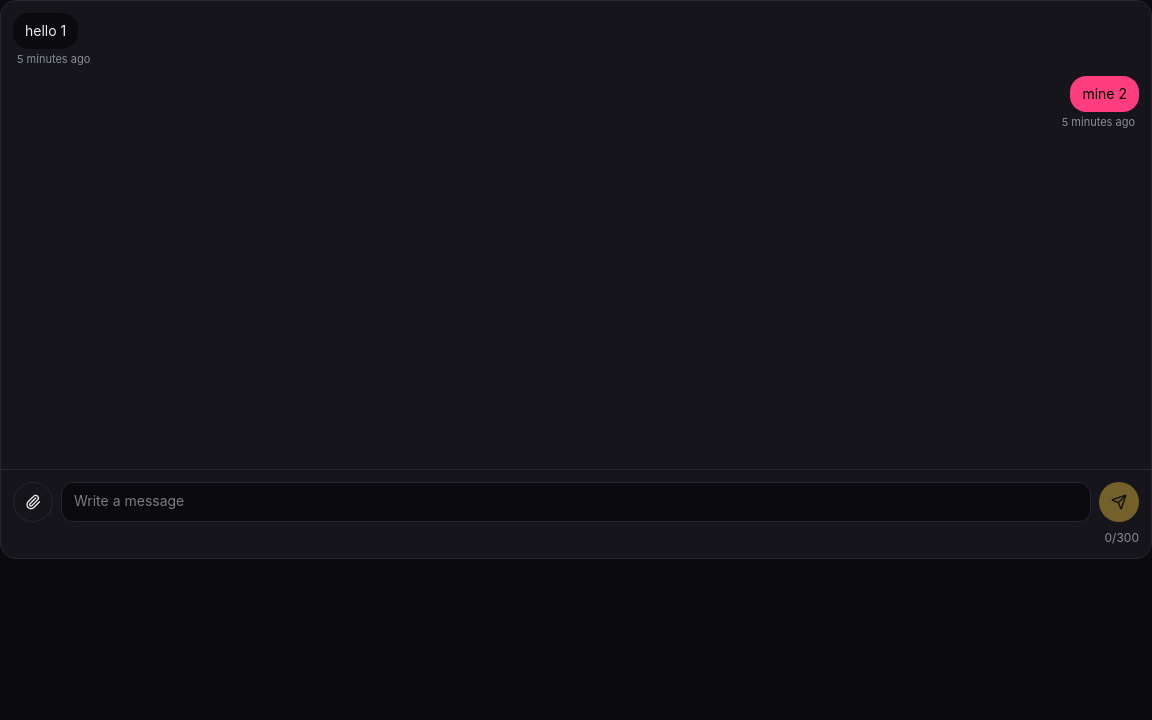
Scenario: direct messages › shows the message at once as pending, and the realtime echo renders it once
Type "ping" into the text box labelled "Write a message" at (576, 502), box x1=61 y1=482 x2=1091 y2=522
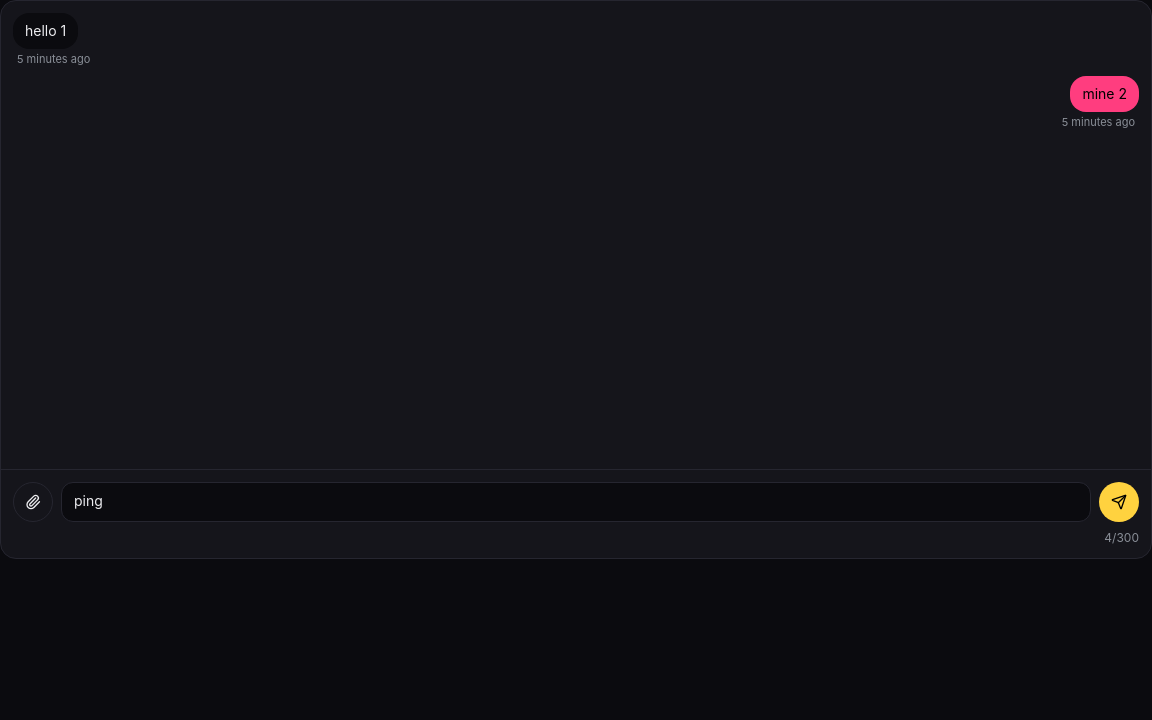
Click the button named "Send" at (1119, 502), box x1=1099 y1=482 x2=1139 y2=522
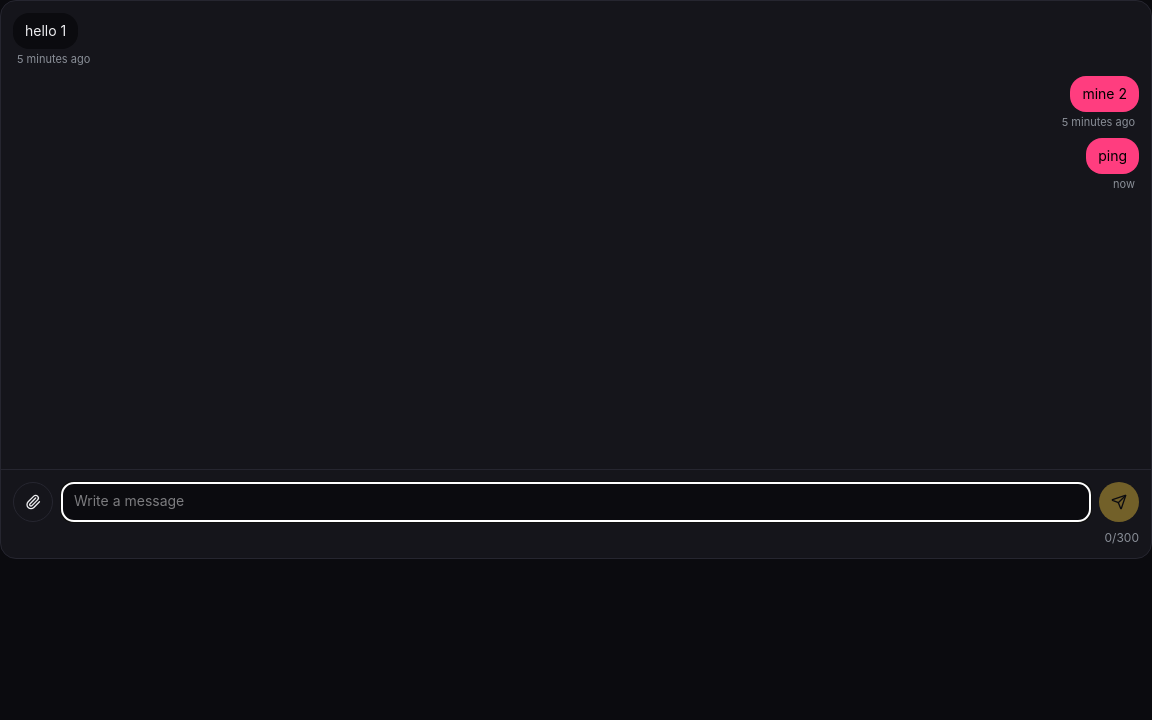
Expected: the text "ping" is shown once, x1=1098 y1=146 x2=1127 y2=166
